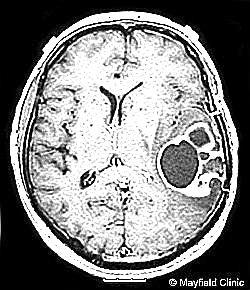Tumor: (153, 120, 231, 204)
